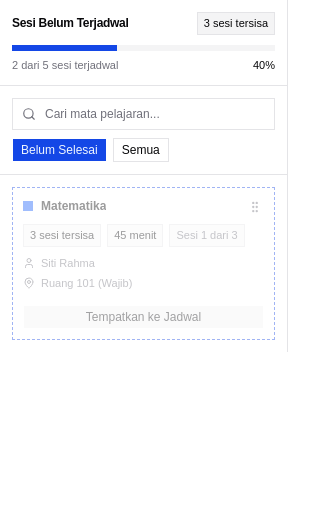
Test case: QA-04 & AC-FR06-02 s.d. 07: Component Test Antarmuka UnscheduledPanel › 3. tombol filter status alokasi ('Belum Selesai' vs 'Semua') memperbarui daftar kartu yang tampil
Expected: the button "Belum Selesai" is shown, [12, 138, 107, 162]
Expected: the text "Matematika" is shown, [41, 198, 106, 214]
Note: Klik tombol filter "Semua"
Click the button "Semua".
click(141, 150)  # box [113, 138, 169, 162]
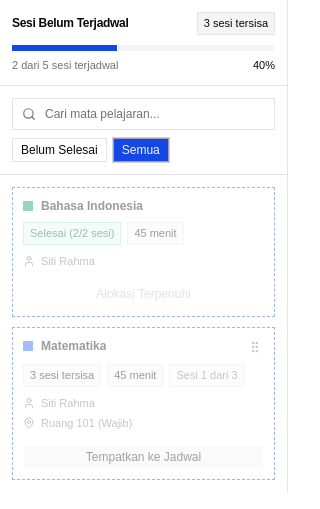
Expected: the text "Matematika" is shown, [41, 338, 106, 354]
Expected: the text "Bahasa Indonesia" is shown, [41, 198, 143, 214]
